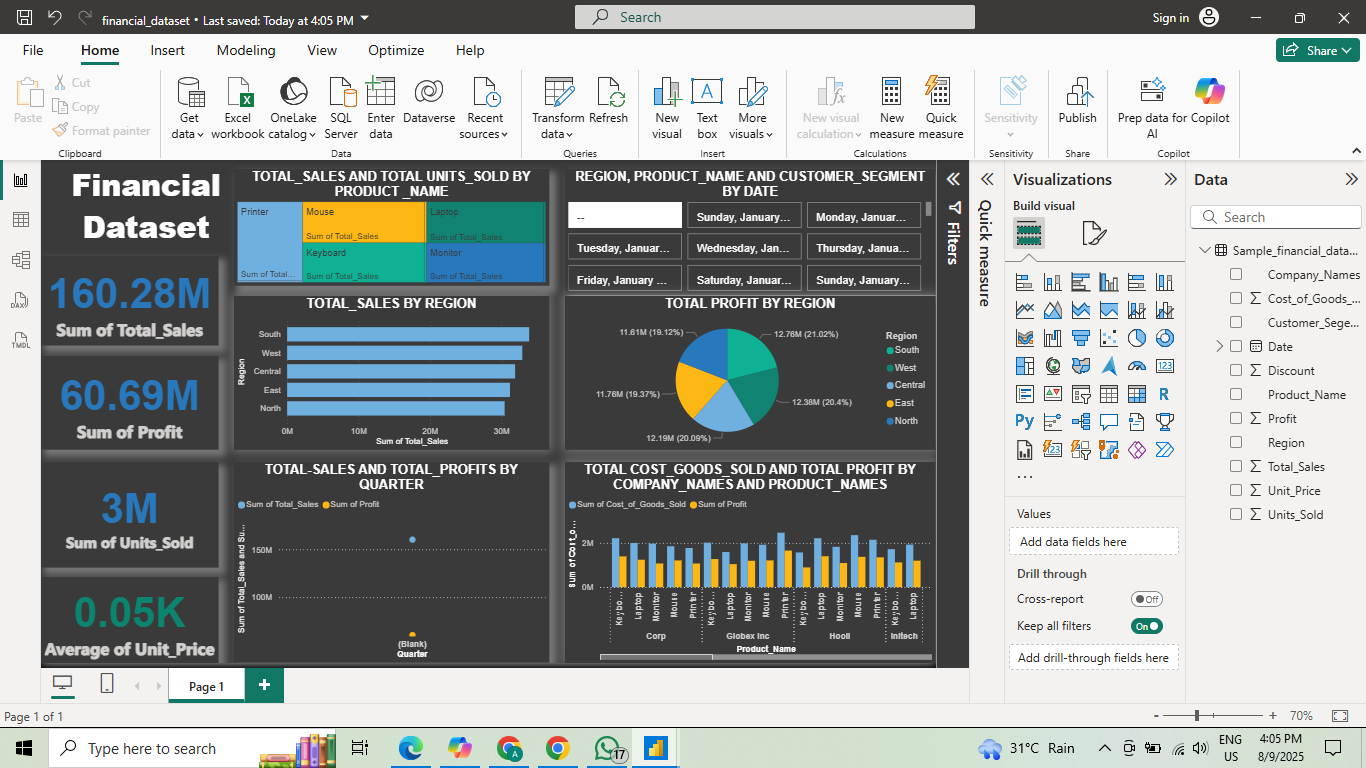

The page's visual inventory and layout, read from the dashboard file:
{"tool":"powerbi","page":{"name":"Page 1","canvas":[1280,720],"ordinal":0},"visuals":[{"type":"textbox","box":[10.1,0,280.5,137.7],"z":0},{"type":"tableEx","fields":{"Values":["Sample_financial_dataset.Total_Sales"]},"box":[10,179.5,281,150],"z":1000},{"type":"card","fields":{"Values":["Sample_financial_dataset.Total_Sales"]},"box":[0,137.7,253.6,127.7],"z":2000},{"type":"card","fields":{"Values":["Sample_financial_dataset.Profit"]},"box":[0,280.5,253.6,134.4],"z":3000},{"type":"card","fields":{"Values":["Sample_financial_dataset.Units_Sold"]},"box":[0,431.7,253.6,151.2],"z":4000},{"type":"card","fields":{"Values":["Sample_financial_dataset.Unit_Price"]},"box":[0,596.3,253.6,124.3],"z":5000},{"type":"treemap","title":"TOTAL_SALES AND TOTAL UNITS_SOLD BY PRODUCT _NAME","fields":{"Values":["Sample_financial_dataset.Total_Sales","Sample_financial_dataset.Units_Sold"],"Group":["Sample_financial_dataset.Product_Name"]},"box":[276.5,13,450.7,167],"z":6000},{"type":"barChart","title":"TOTAL_SALES BY REGION","fields":{"Category":["Sample_financial_dataset.Region"],"Y":["Sample_financial_dataset.Total_Sales"]},"box":[276.5,194.4,450.7,220.3],"z":7000},{"type":"lineChart","title":"TOTAL-SALES AND TOTAL_PROFITS BY QUARTER","fields":{"Category":["Sample_financial_dataset.Date.Variation.Date Hierarchy.Quarter"],"Y":["Sample_financial_dataset.Total_Sales","Sample_financial_dataset.Profit"]},"box":[276,431.9,450.5,287.5],"z":8000},{"type":"advancedSlicerVisual","title":"REGION,  PRODUCT_NAME AND CUSTOMER_SEGMENT BY DATE","fields":{"Values":["Sample_financial_dataset.Date"]},"box":[750.1,13,529.9,180],"z":8001},{"type":"pieChart","title":"TOTAL PROFIT BY REGION","fields":{"Category":["Sample_financial_dataset.Region"],"Y":["Sample_financial_dataset.Profit"]},"box":[750,194,530,220],"z":8002},{"type":"clusteredColumnChart","title":"TOTAL COST_GOODS_SOLD AND TOTAL PROFIT BY COMPANY_NAMES AND PRODUCT_NAMES","fields":{"Category":["Sample_financial_dataset.Company_Names","Sample_financial_dataset.Product_Name"],"Y":["Sample_financial_dataset.Cost_of_Goods_Sold","Sample_financial_dataset.Profit"]},"box":[750.1,432,529.9,288],"z":8003}]}

Visuals, with their boxes on the page's 1280x720 design canvas (x1, y1, x2, y2). These are canvas units, not pixel positions in the 1366x768 screenshot, which may show the page scaled, cropped or inside an application window:
textbox: region(10, 0, 291, 138)
tableEx - Sample_financial_dataset.Total_Sales: region(10, 180, 291, 330)
card - Sample_financial_dataset.Total_Sales: region(0, 138, 254, 265)
card - Sample_financial_dataset.Profit: region(0, 280, 254, 415)
card - Sample_financial_dataset.Units_Sold: region(0, 432, 254, 583)
card - Sample_financial_dataset.Unit_Price: region(0, 596, 254, 721)
"TOTAL_SALES AND TOTAL UNITS_SOLD BY PRODUCT _NAME" treemap: region(276, 13, 727, 180)
"TOTAL_SALES BY REGION" barChart: region(276, 194, 727, 415)
"TOTAL-SALES AND TOTAL_PROFITS BY QUARTER" lineChart: region(276, 432, 726, 719)
"REGION,  PRODUCT_NAME AND CUSTOMER_SEGMENT BY DATE" advancedSlicerVisual: region(750, 13, 1280, 193)
"TOTAL PROFIT BY REGION" pieChart: region(750, 194, 1280, 414)
"TOTAL COST_GOODS_SOLD AND TOTAL PROFIT BY COMPANY_NAMES AND PRODUCT_NAMES" clusteredColumnChart: region(750, 432, 1280, 720)
